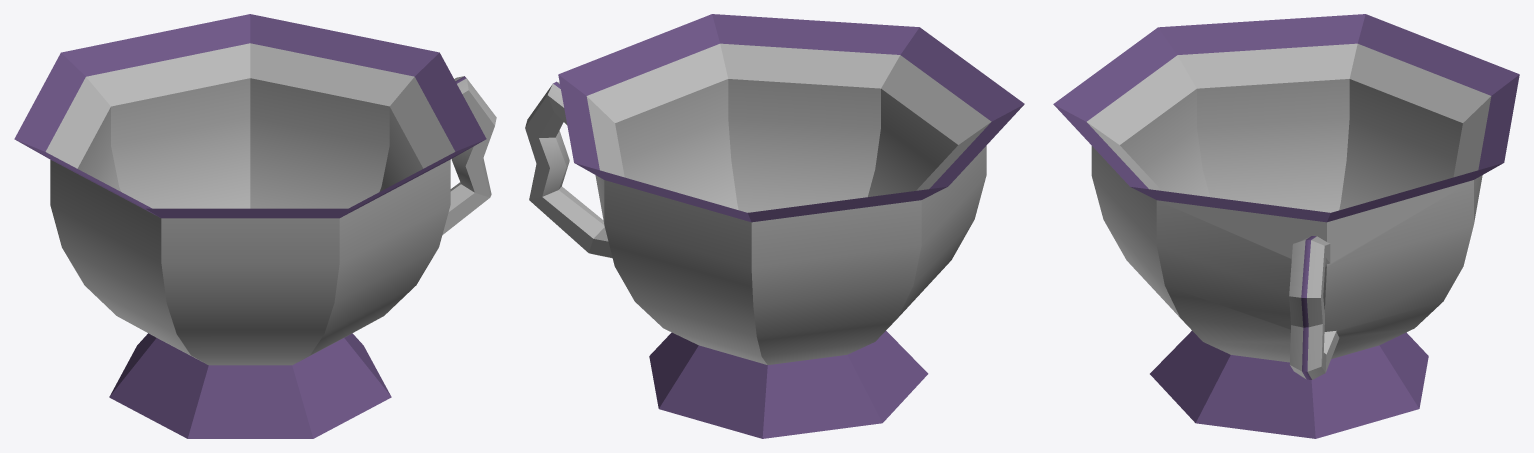
Rendered from TeaCup0.fbx.
3 renders of one model, left to right at view 1: azimuth 30°, elevation 25°; view 2: azimuth 150°, elevation 25°; view 3: azimuth 270°, elevation 25°, orthographic.
Parts seen in each view (by area): view 1: TeaCup0; view 2: TeaCup0; view 3: TeaCup0.
Part boxes in pixels (x1,y1,x2,y2): TeaCup0: [14, 14, 496, 438]; TeaCup0: [525, 14, 1024, 438]; TeaCup0: [1053, 14, 1519, 438].
Size of the model in its own units: 2.9 by 1.64 by 2.6.
